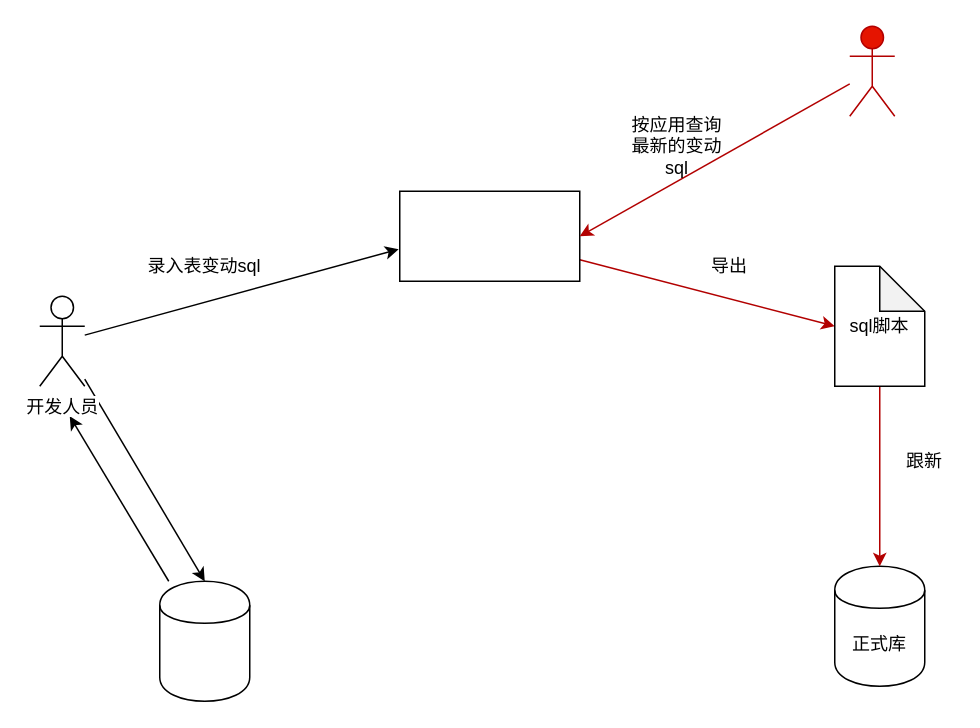
Some shapes in this 980 by 728 pixel diagram are drawn without their labels. The shapes that lost their labels are listed below. From the top down, each one's box as (x1, y1, x2, y2) in pixels, then its label:
(398, 190, 580, 281): sql存储平台
(158, 580, 250, 701): 测试库
